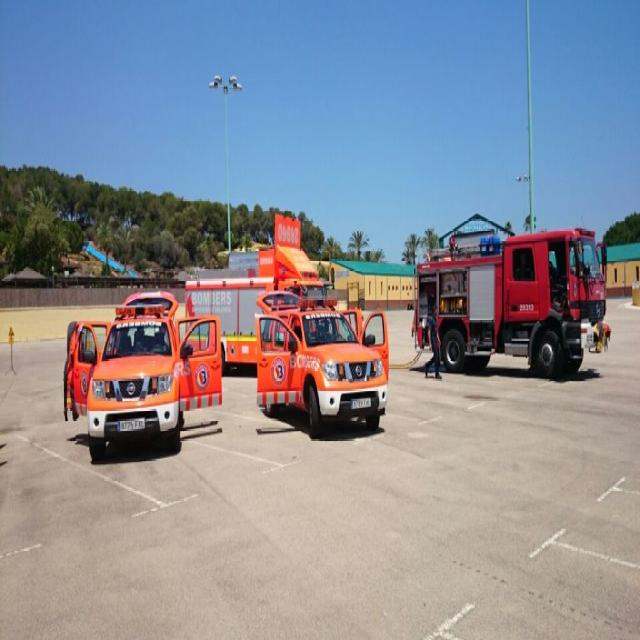car: (61, 283, 226, 445), (254, 290, 386, 434)
